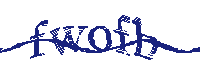b: (133, 16, 156, 61)
f: (27, 18, 50, 59), (114, 14, 133, 57)
o: (89, 22, 113, 56)
w: (48, 22, 88, 57)
